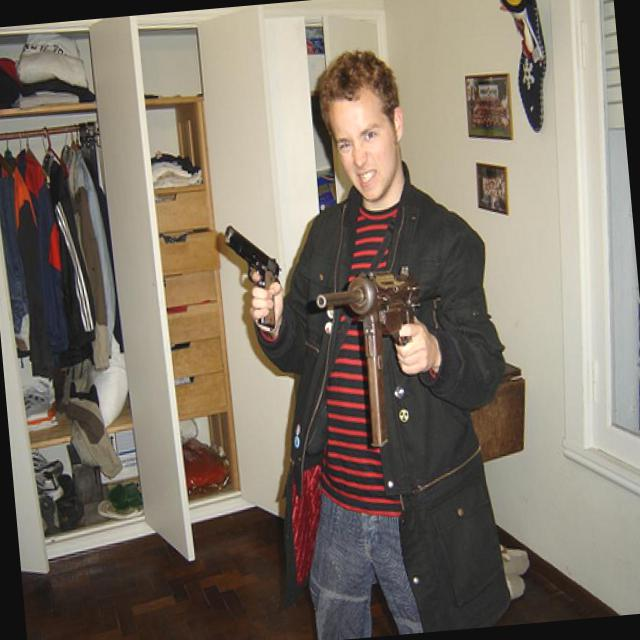handgun: (218, 215, 282, 328)
